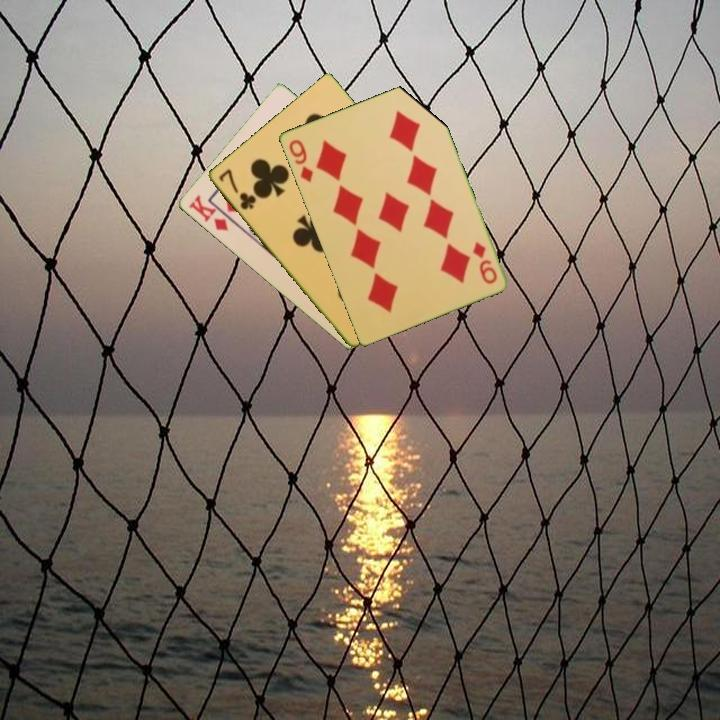7c: (215, 165, 259, 213)
9d: (285, 136, 316, 185), (469, 238, 500, 287)
Kd: (185, 191, 231, 234)
